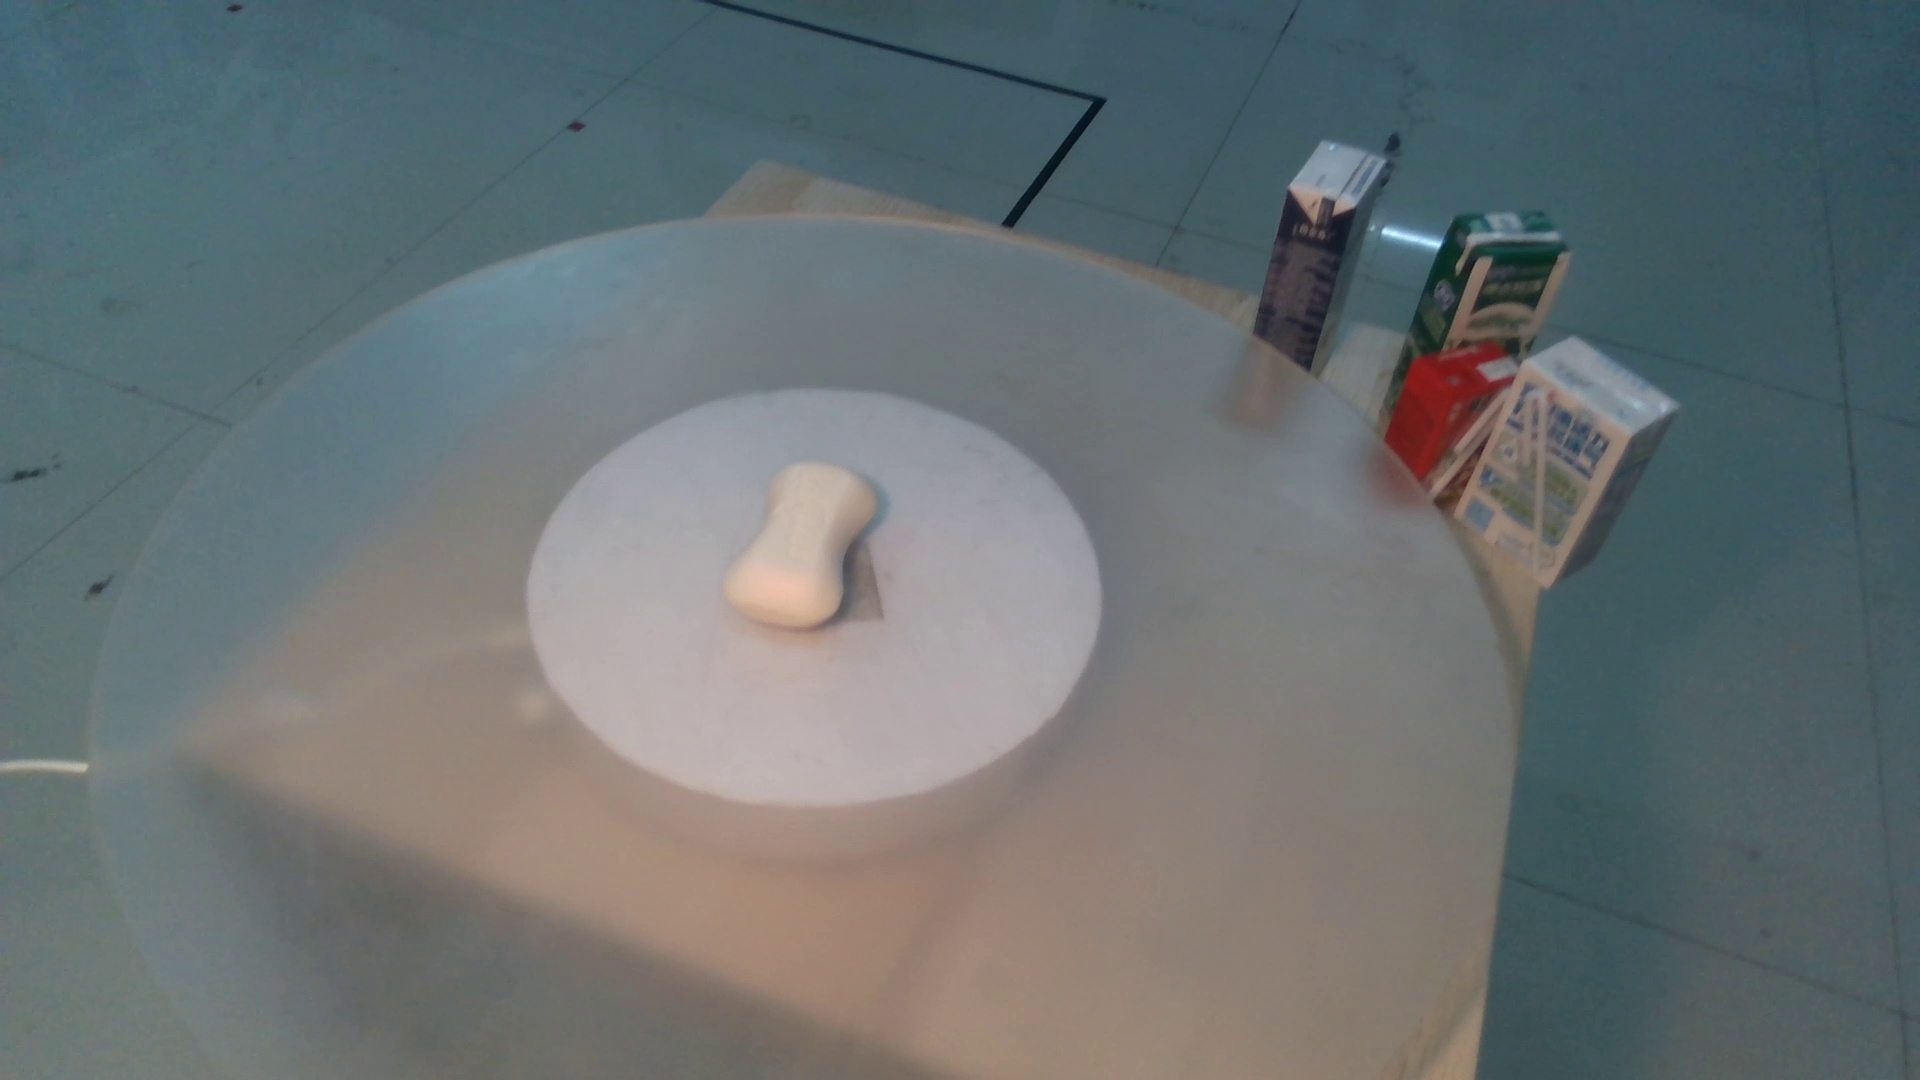CA003_1: (684, 458, 936, 654)
